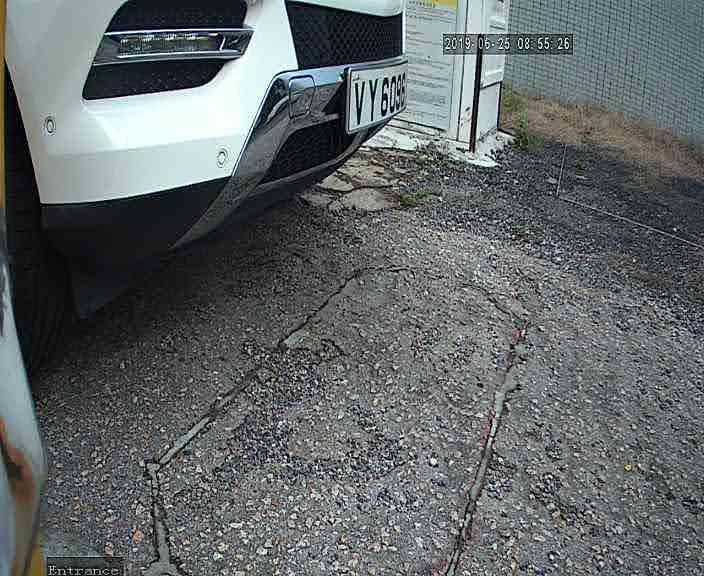privatecar: (4, 2, 446, 326)
